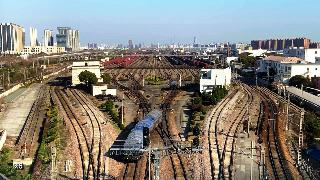train: (123, 108, 162, 161), (171, 81, 178, 90)
